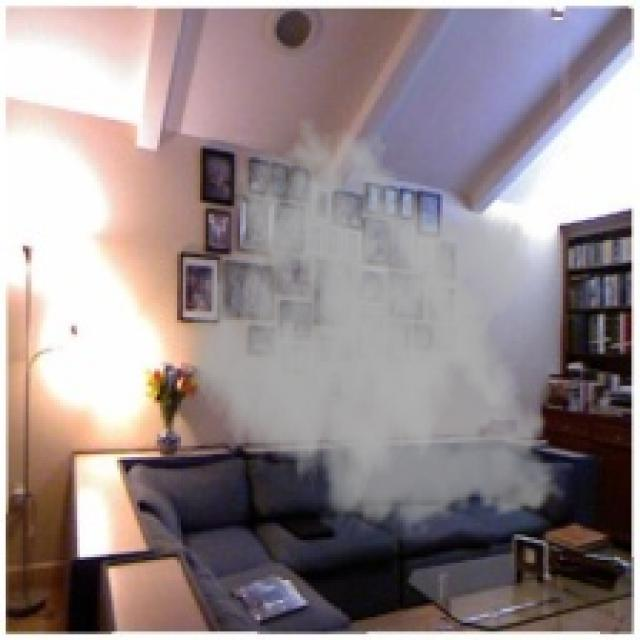smoke: (188, 114, 572, 540)
